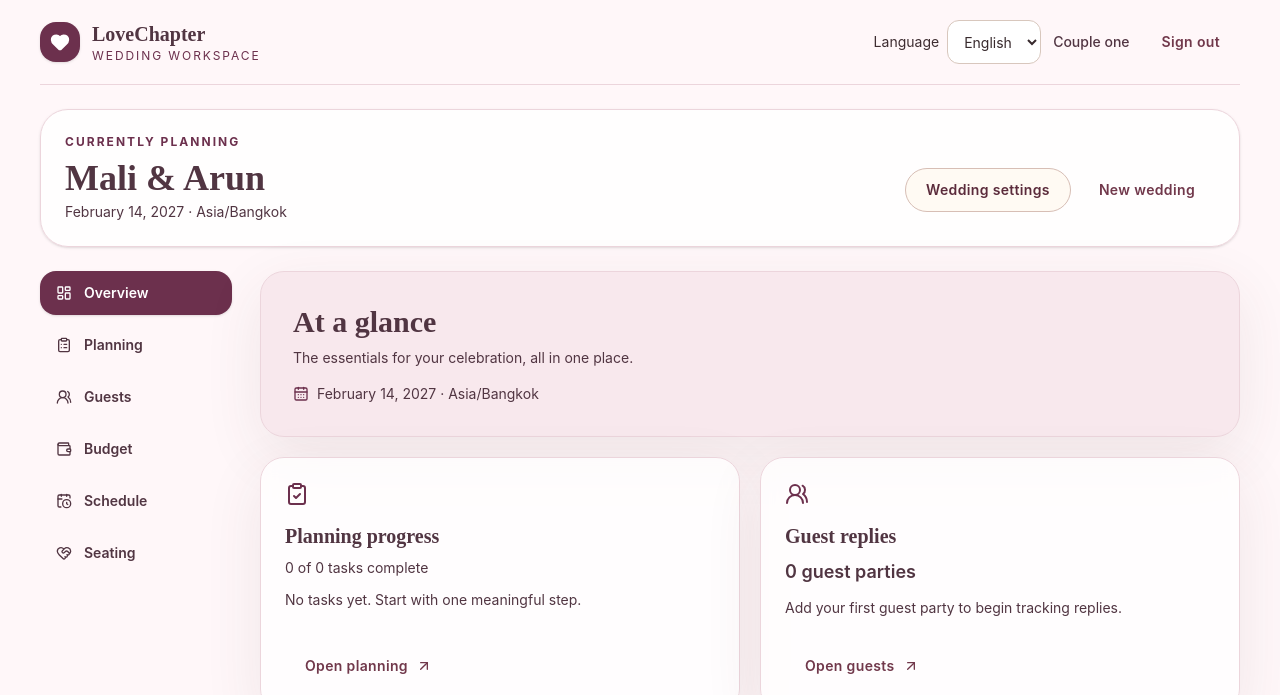
it: CoupleWorkspace › shows the selected wedding's planning checklist
The width and height of the screenshot is (1280, 695).
Click the button "Planning".
click(136, 345)  # box 40,323 -> 232,367
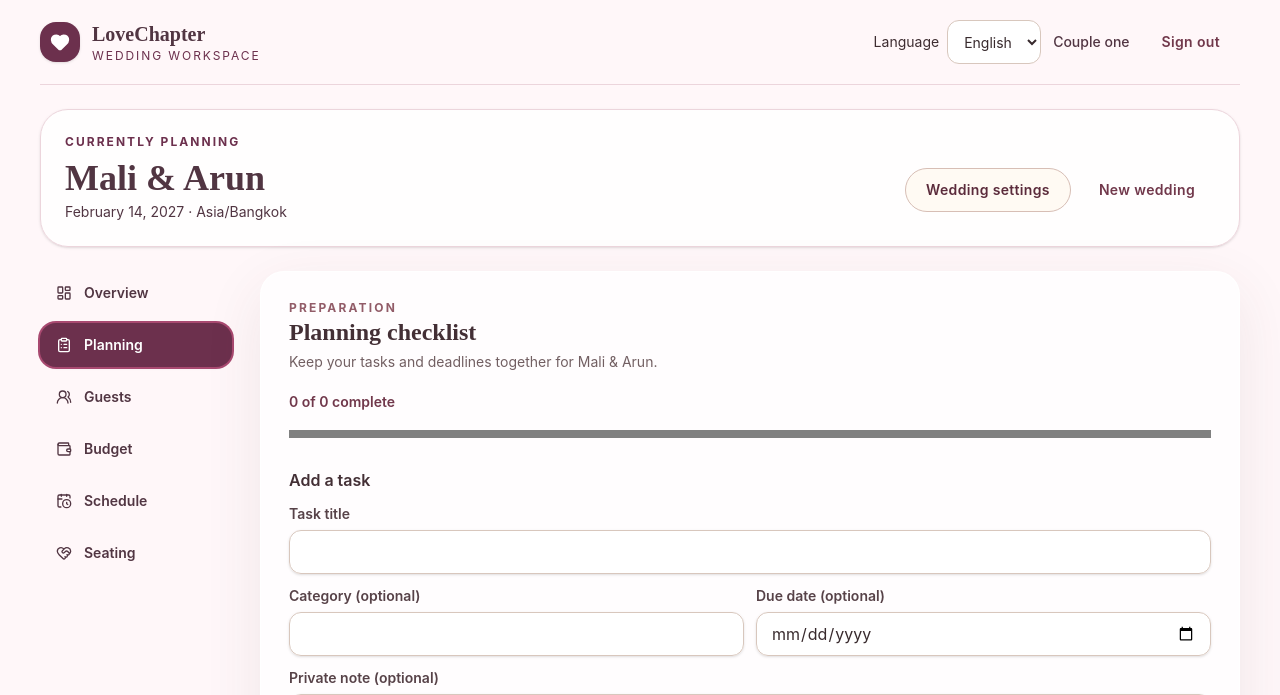
Check: the heading "Planning checklist" is shown, box 289,319 -> 476,345
